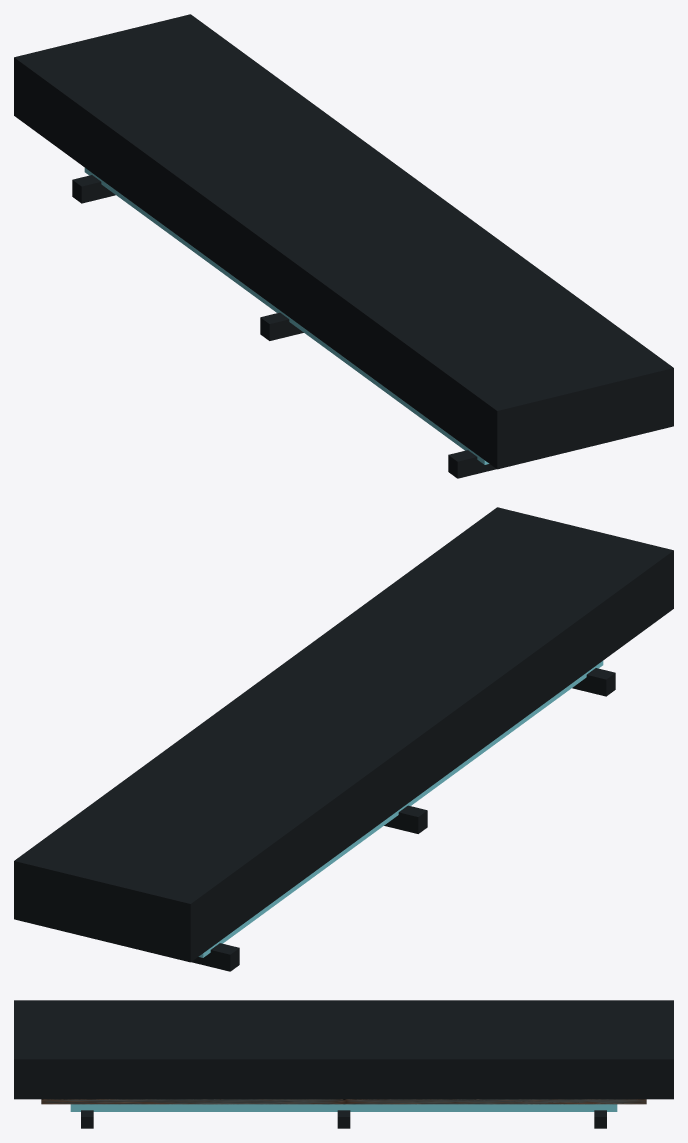
File: CeilingLight.obj
3 renders of one model, top to bottom at view 1: azimuth 30°, elevation 25°; view 2: azimuth 150°, elevation 25°; view 3: azimuth 270°, elevation 25°, orthographic. The views are drawn at different scales.
Visible parts, largest first — view 1: CeilingLight; view 2: CeilingLight; view 3: CeilingLight.
Part boxes in pixels (x1=…): CeilingLight: x1=14, y1=14, x2=673, y2=478; CeilingLight: x1=14, y1=507, x2=673, y2=971; CeilingLight: x1=14, y1=1000, x2=673, y2=1128.
Size of the model in its own units: 0.38 by 0.2175 by 1.8.
Materials: 3 (1 with a texture image).
